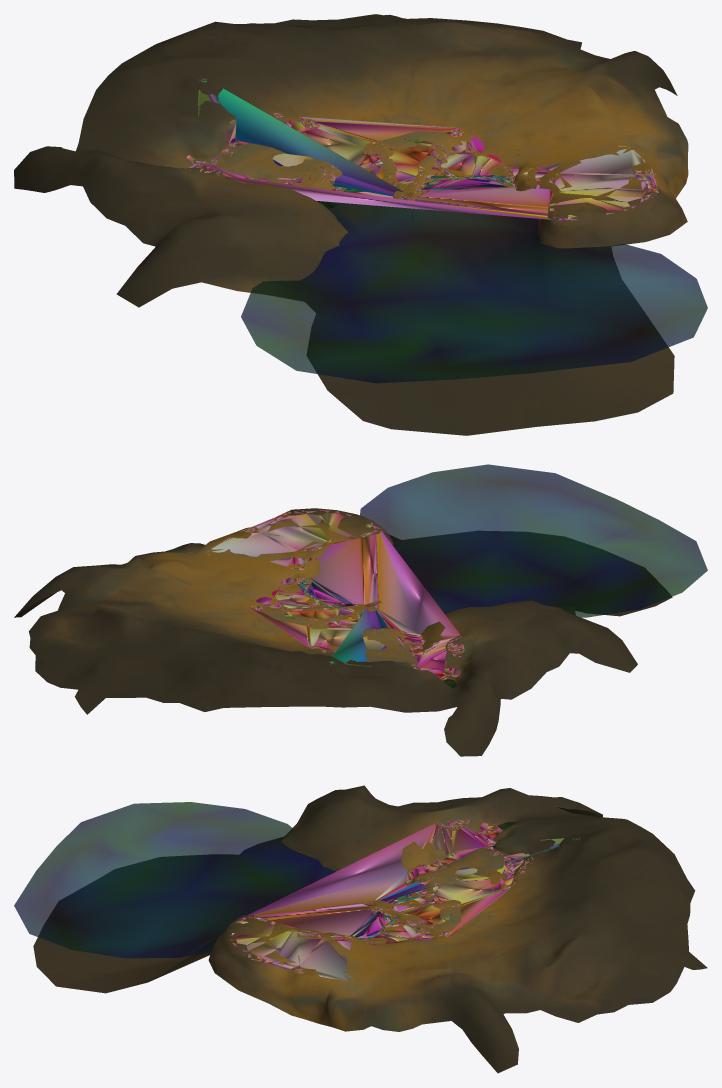
File: FieldEnvironment.fbx
The picture shows the model from 3 angles, top to bottom: view 1: azimuth 30°, elevation 25°; view 2: azimuth 150°, elevation 25°; view 3: azimuth 270°, elevation 25°; orthographic projection. The views are drawn at different scales.
Parts seen in each view (by area): view 1: EnvGround_geo, pondWater_geo, grassClusterABase_inst, mushroomABase_inst, swampGrassABase_inst; view 2: EnvGround_geo, pondWater_geo, grassClusterABase_inst, mushroomABase_inst, swampGrassABase_inst; view 3: EnvGround_geo, pondWater_geo, grassClusterABase_inst, mushroomABase_inst.
Part boxes in pixels (<box>): EnvGround_geo: <box>14,14,688,435</box>; pondWater_geo: <box>241,201,707,383</box>; grassClusterABase_inst: <box>179,113,658,220</box>; mushroomABase_inst: <box>195,78,406,198</box>; swampGrassABase_inst: <box>342,175,512,191</box>; EnvGround_geo: <box>14,508,672,756</box>; pondWater_geo: <box>360,464,707,617</box>; grassClusterABase_inst: <box>207,509,464,679</box>; mushroomABase_inst: <box>327,607,416,669</box>; swampGrassABase_inst: <box>299,578,364,614</box>; EnvGround_geo: <box>33,785,707,1073</box>; pondWater_geo: <box>14,802,335,958</box>; grassClusterABase_inst: <box>230,819,533,981</box>; mushroomABase_inst: <box>379,838,579,902</box>.
Size of what is drawn, in the model's own units: 6226 by 1137 by 7162.
9 materials, 5 textured.
